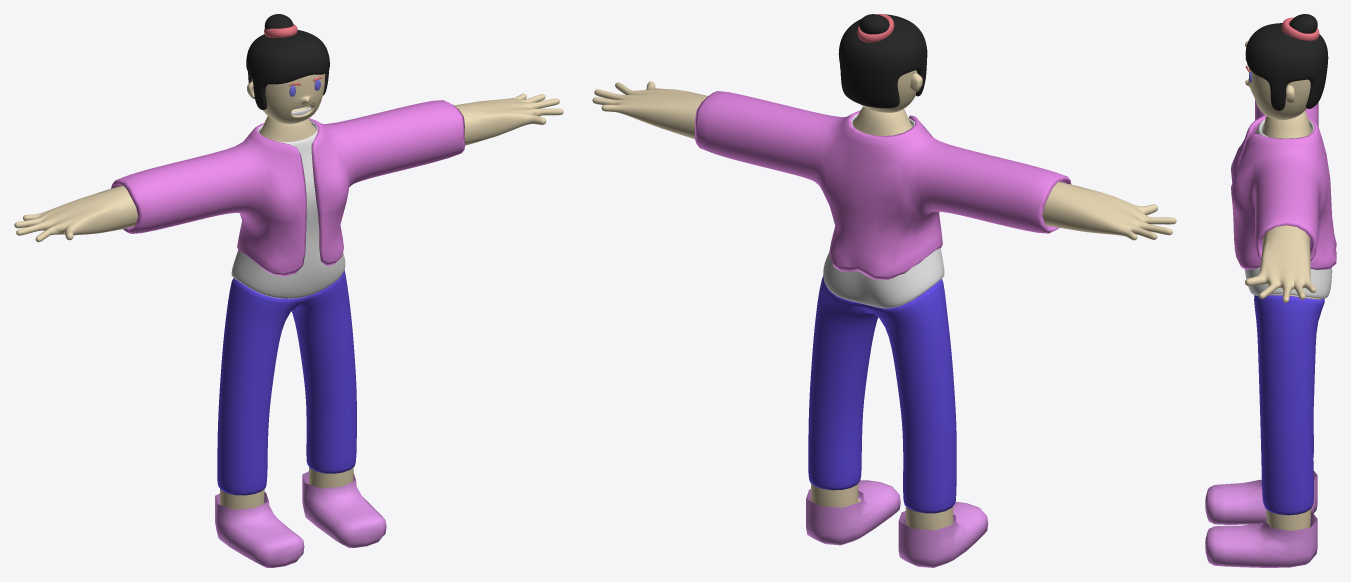
Rendered from stylished_character1.glb.
3 views of the same model, side by side, from view 1: azimuth 30°, elevation 25°; view 2: azimuth 150°, elevation 25°; view 3: azimuth 270°, elevation 25° (orthographic). The views are drawn at different scales.
Visible parts, largest first — view 1: jacket, trousers, body, shoes, t-shirt, hair, head; view 2: jacket, trousers, body, shoes, hair, t-shirt; view 3: trousers, jacket, shoes, hair, body, head, t-shirt.
Boxes of the visible parts, <box> form: jacket: <box>111,100,465,276</box>; trousers: <box>217,270,356,495</box>; body: <box>14,93,563,509</box>; shoes: <box>215,471,386,567</box>; t-shirt: <box>231,121,345,298</box>; hair: <box>246,14,329,110</box>; head: <box>252,73,325,123</box>; jacket: <box>695,91,1071,279</box>; trousers: <box>808,275,956,513</box>; body: <box>592,81,1176,530</box>; shoes: <box>806,480,988,567</box>; hair: <box>838,14,927,108</box>; t-shirt: <box>823,114,944,308</box>; trousers: <box>1254,295,1324,515</box>; jacket: <box>1231,99,1336,269</box>; shoes: <box>1205,471,1317,567</box>; hair: <box>1245,14,1328,110</box>; body: <box>1245,41,1321,530</box>; head: <box>1245,68,1310,119</box>; t-shirt: <box>1244,118,1332,298</box>.
Bounding box in the file's own units: 4.09 × 3.66 × 0.8328.
